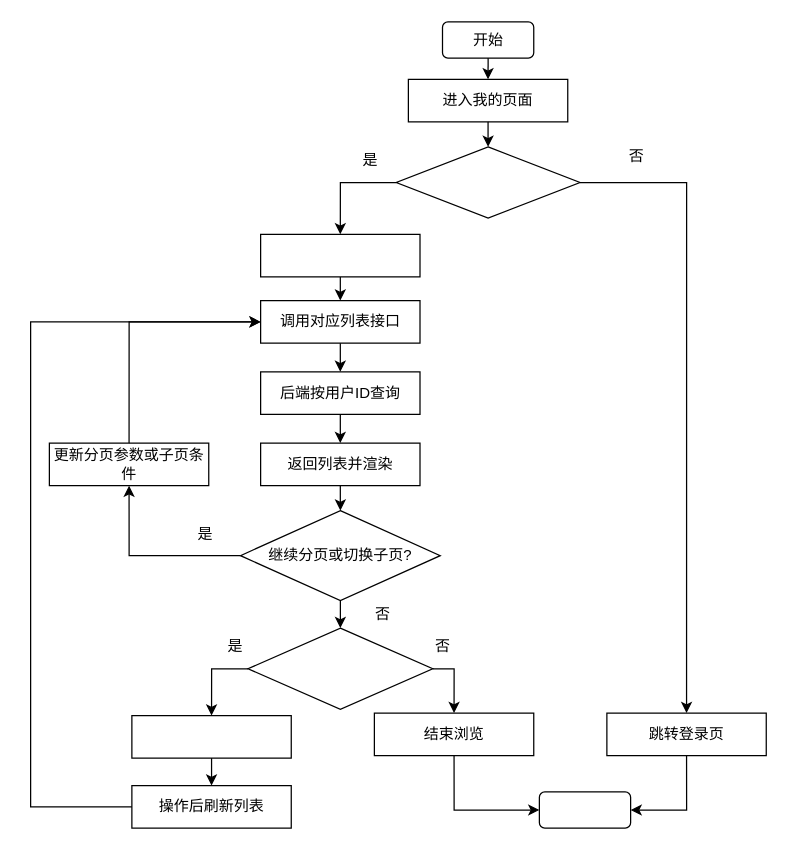
The diagram is 789 pixels wide and 850 high, and some of its shapes have lost their labels. Each missing label, with the centre of its shape:
"JWT鉴权通过?" goes at (x=487, y=182).
"是否操作我的帖子?" goes at (x=340, y=668).
"结束" goes at (x=584, y=809).
"调用编辑或删除接口" goes at (x=211, y=736).
"选择子页:我的帖子/我的点赞/我的收藏" goes at (x=339, y=255).
